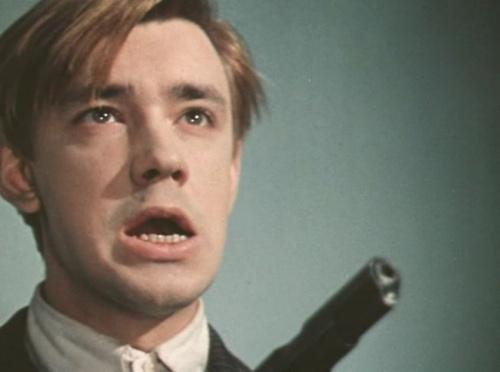Gun: (252, 258, 401, 372)
